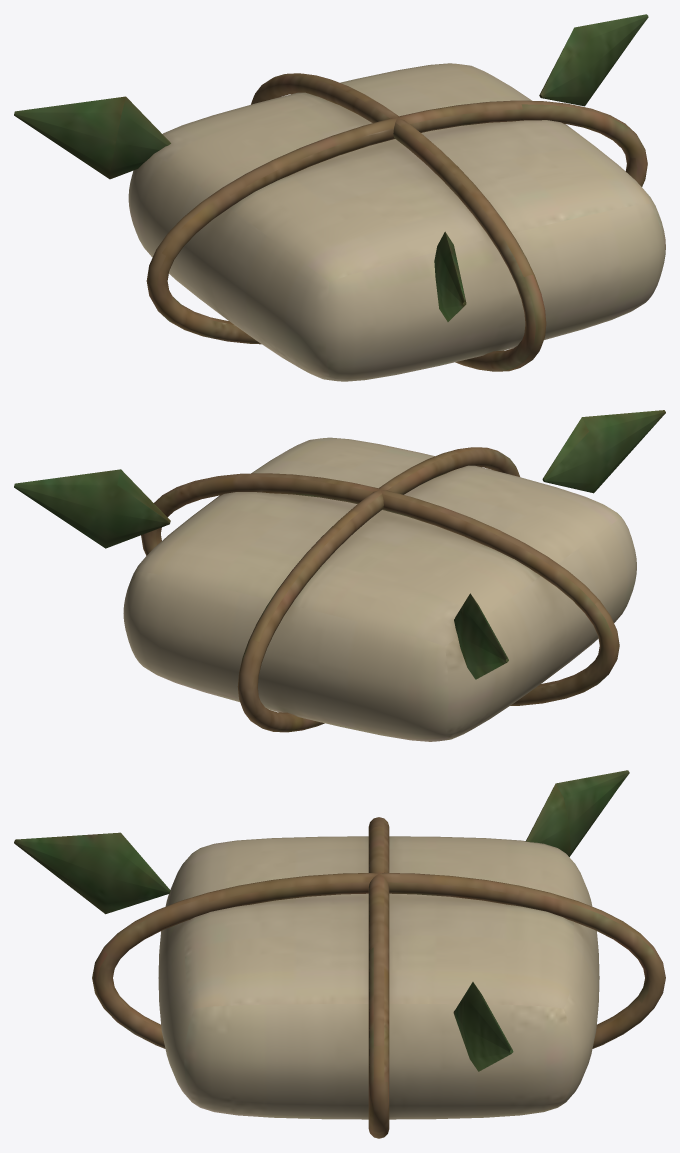
The model's file is poultice.glb.
The picture shows the model from 3 angles, top to bottom: view 1: azimuth 30°, elevation 25°; view 2: azimuth 150°, elevation 25°; view 3: azimuth 270°, elevation 25°; orthographic projection. The views are drawn at different scales.
Visible parts, largest first — view 1: poultice; view 2: poultice; view 3: poultice.
Part boxes in pixels (left/top/right/bottom): poultice: left=14, top=14, right=665, bottom=381; poultice: left=14, top=410, right=665, bottom=741; poultice: left=14, top=770, right=665, bottom=1138.
Size of the model in its own units: 0.0887 by 0.031 by 0.0872.
Materials: 1 (1 with a texture image).
